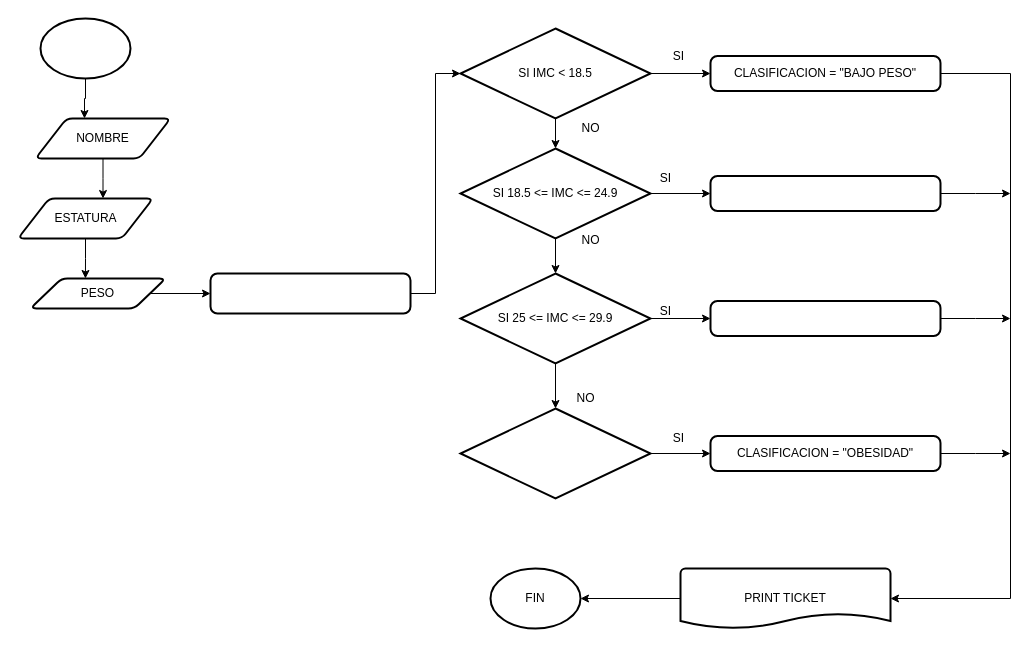
Some shapes in this 1036 by 646 pixel diagram are drawn without their labels. Here are the shapes that lost their labels. From the top down, the box of each, then its label:
(39, 17, 131, 79): INICIO
(709, 174, 941, 212): CLASIFICACION = "NORMAL"
(209, 272, 411, 314): IMC = PESO / ESTATURA^2
(709, 300, 941, 336): CLASIFICACION = "SOBREPESO"
(459, 407, 651, 499): SI IMC > 30
